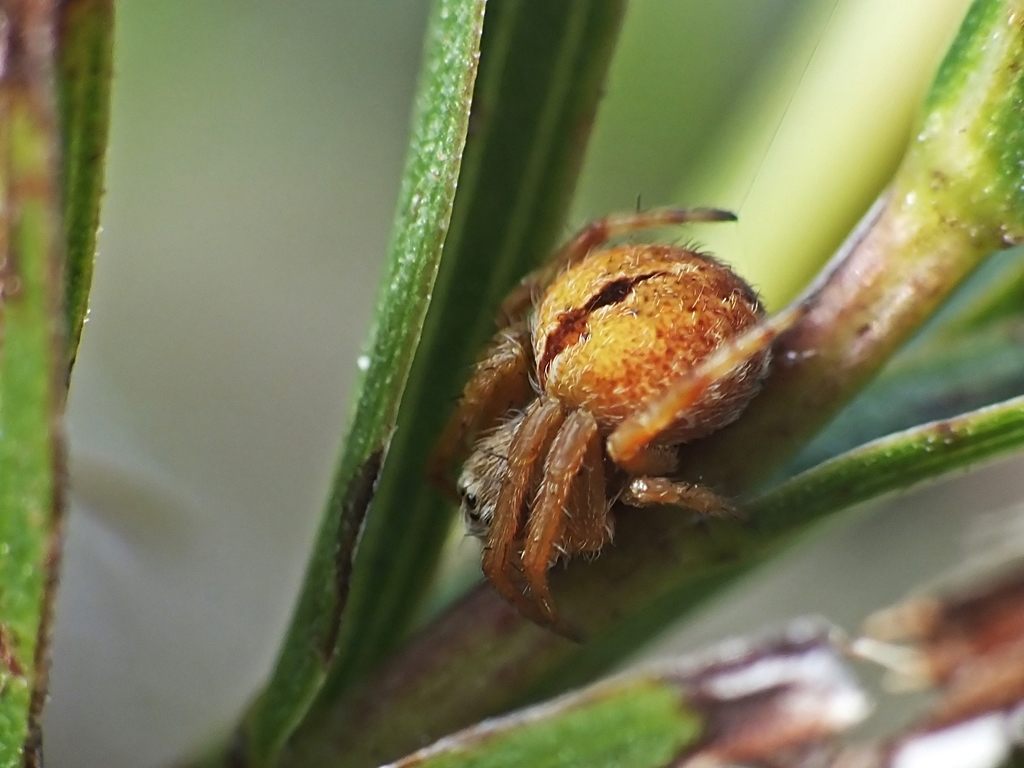spider: (384, 130, 879, 650)
